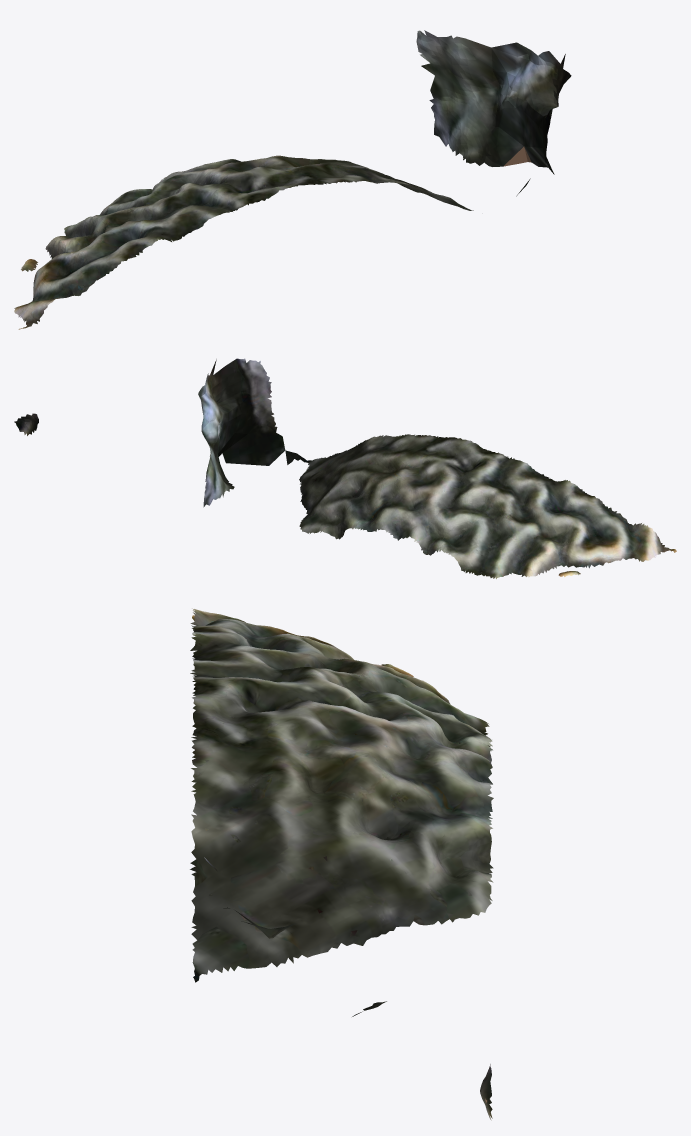
The model's file is tile_0236.gltf.
3 views of the same model, one above another, from view 1: azimuth 30°, elevation 25°; view 2: azimuth 150°, elevation 25°; view 3: azimuth 270°, elevation 25° (orthographic). The views are drawn at different scales.
Visible parts, largest first — view 1: defaultobject; view 2: defaultobject; view 3: defaultobject.
Part boxes in pixels (box(x1,y1,x2,y2)): defaultobject: box(14, 30, 571, 329); defaultobject: box(14, 358, 676, 578); defaultobject: box(190, 608, 493, 1120).
Bounding box in the file's own units: 0.944 × 0.155 × 0.2165.
1 material, 1 textured.
